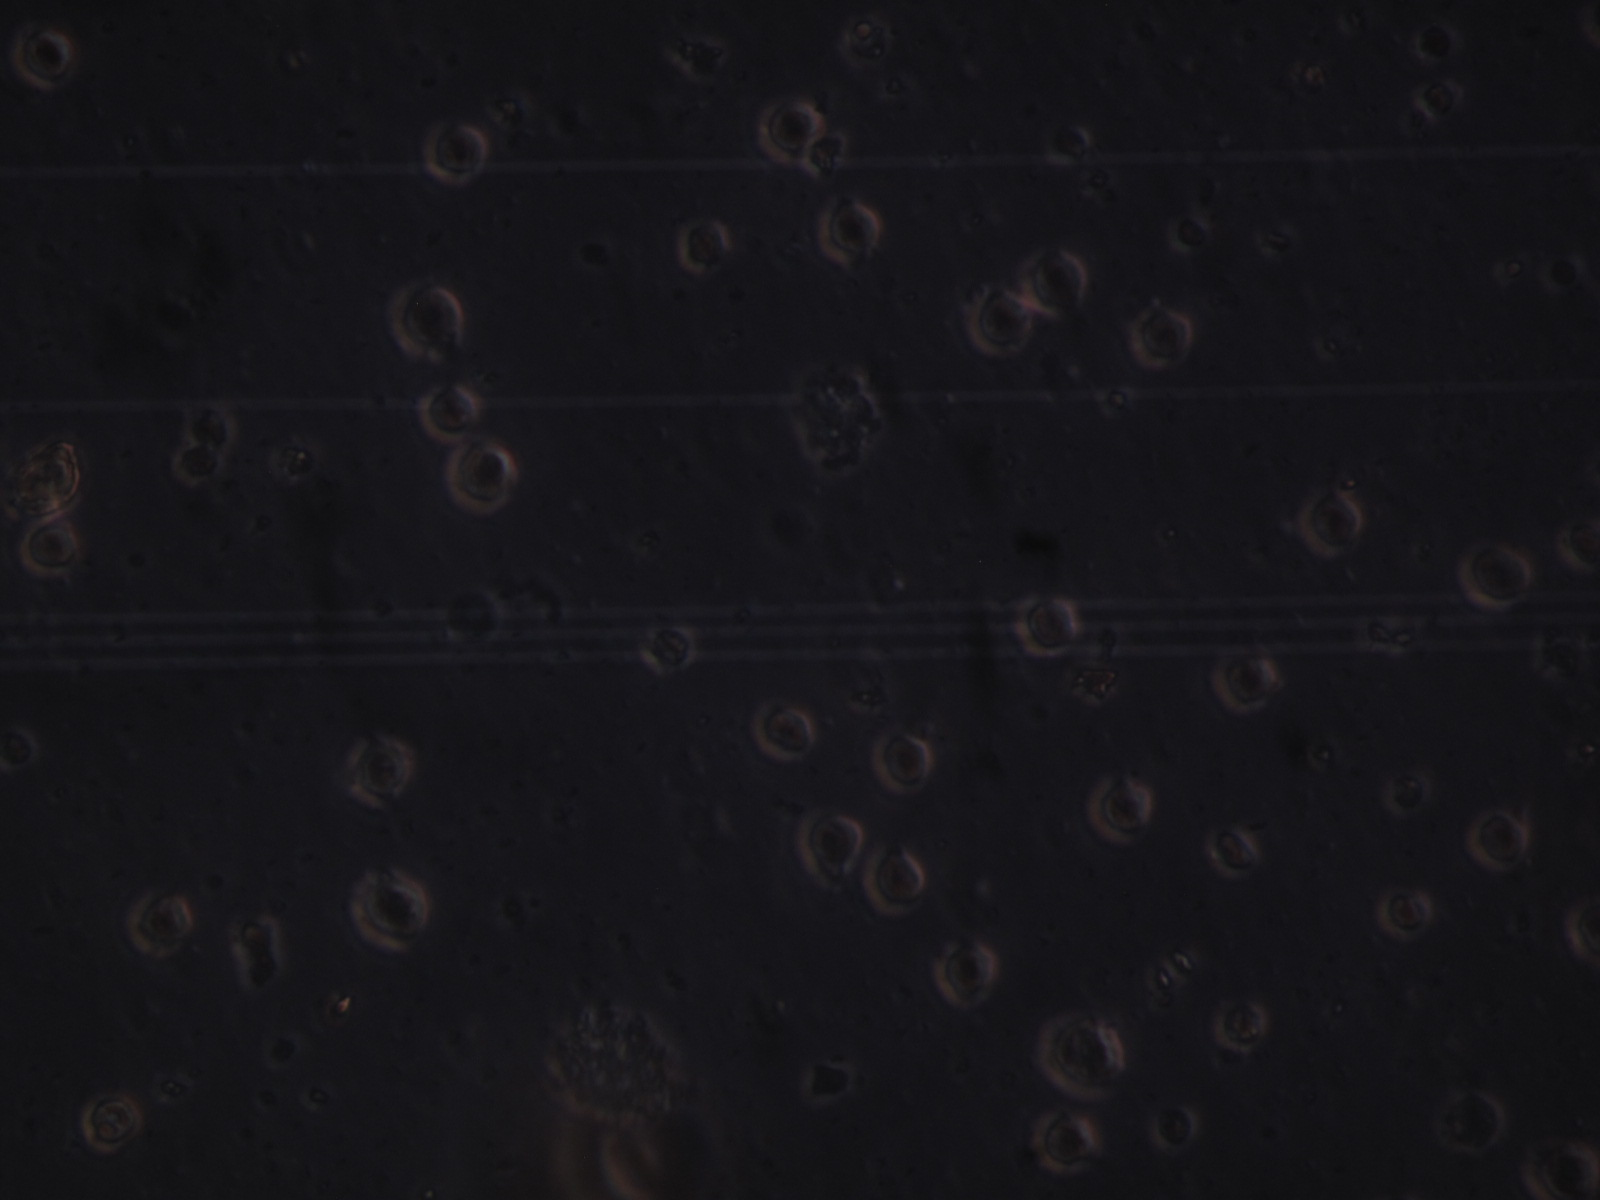hemo: (348, 863, 432, 955), (1041, 1017, 1124, 1098), (391, 277, 466, 359), (1458, 538, 1533, 608), (803, 805, 867, 884), (447, 440, 515, 512), (814, 195, 883, 263), (346, 737, 414, 805), (1013, 592, 1081, 661), (1300, 483, 1361, 558), (1128, 303, 1193, 371), (123, 889, 193, 953), (1468, 808, 1534, 874), (1089, 776, 1154, 843), (1024, 248, 1090, 315), (1036, 1105, 1099, 1174), (973, 287, 1036, 355), (1213, 648, 1277, 712), (425, 120, 488, 185), (760, 96, 818, 166), (10, 25, 73, 89), (937, 940, 998, 1006), (81, 1093, 142, 1153), (868, 851, 926, 914), (1374, 882, 1436, 940), (874, 729, 930, 793), (758, 700, 816, 759), (16, 524, 81, 577), (1214, 998, 1271, 1058), (418, 384, 477, 440), (675, 218, 732, 274), (637, 621, 698, 673), (837, 15, 893, 68), (179, 400, 241, 447), (1208, 824, 1261, 880), (268, 436, 324, 483), (173, 444, 226, 482)
